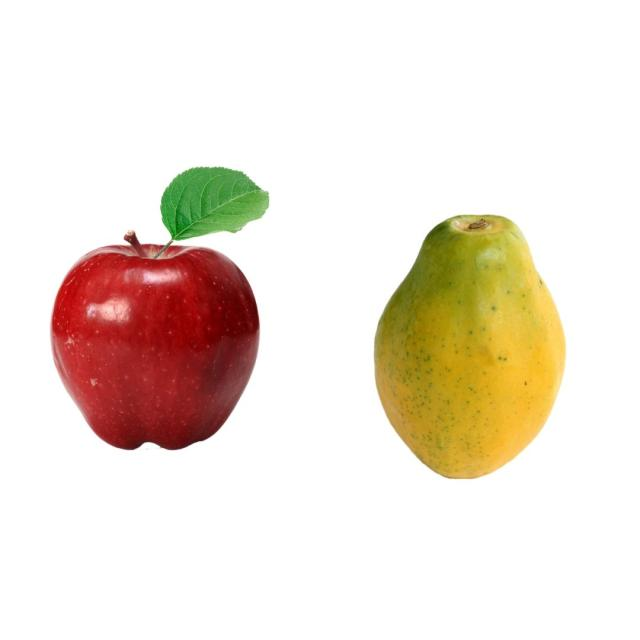Apel: (48, 165, 270, 451)
Pepaya: (372, 213, 566, 479)
